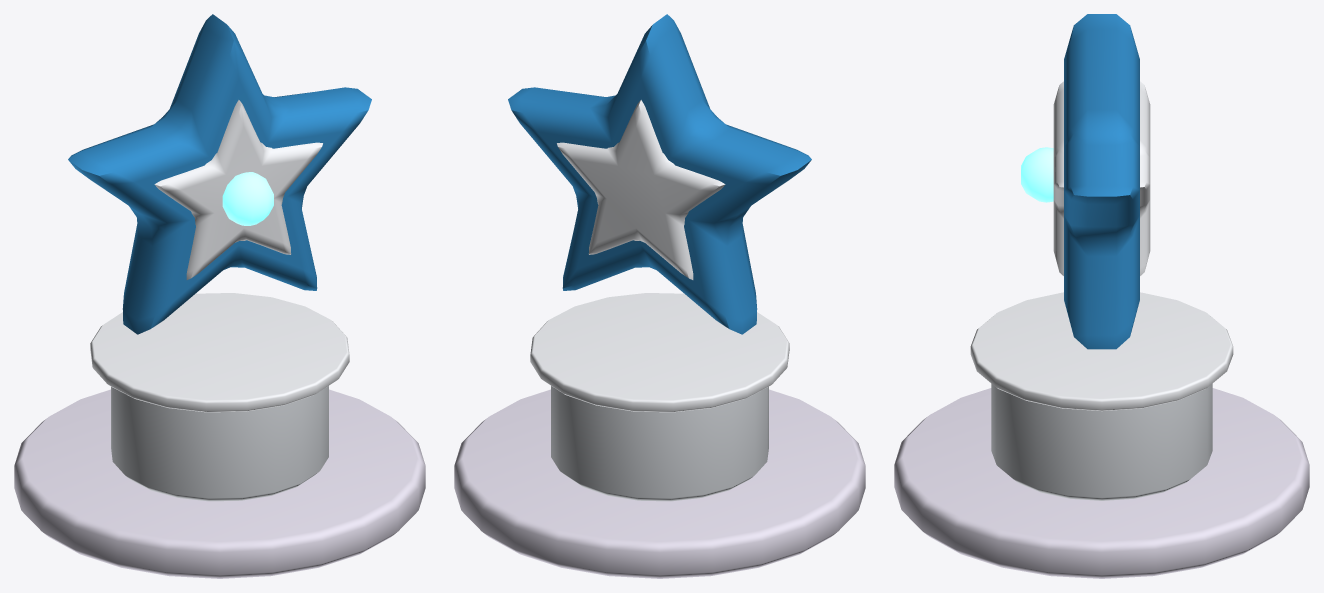
The model's file is pop_sculpture.glb.
The picture shows the model from 3 angles, left to right: view 1: azimuth 30°, elevation 25°; view 2: azimuth 150°, elevation 25°; view 3: azimuth 270°, elevation 25°; orthographic projection.
Parts seen in each view (by area): view 1: pop_sculpture; view 2: pop_sculpture; view 3: pop_sculpture.
Boxes of the visible parts, bbox=[...] form: pop_sculpture: bbox=[14, 14, 425, 578]; pop_sculpture: bbox=[454, 14, 865, 578]; pop_sculpture: bbox=[894, 14, 1309, 578].
Size of the model in its own units: 3 by 3.83 by 3.
